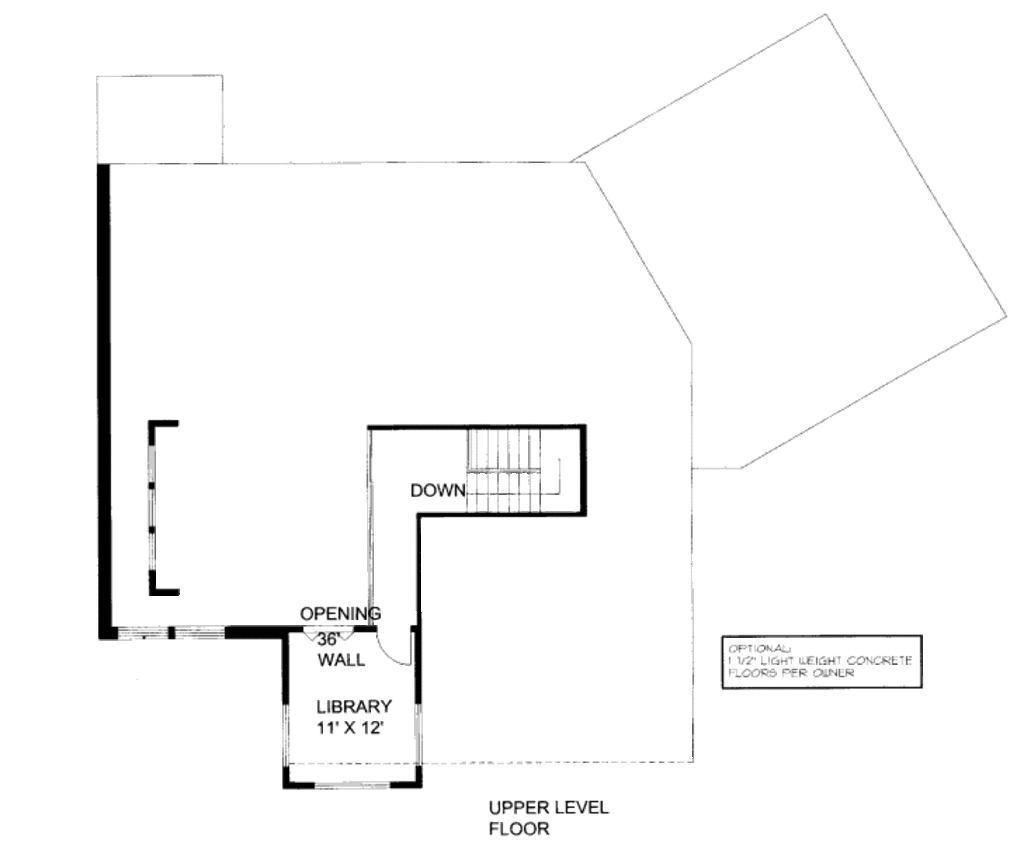door: (371, 619, 424, 668)
stairs: (367, 433, 605, 528)
window: (102, 615, 214, 637), (314, 777, 393, 792), (282, 702, 298, 773), (410, 701, 427, 760)
